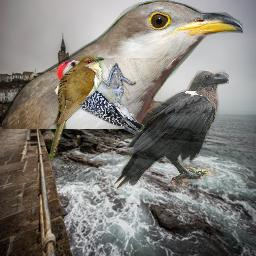Crow: (112, 70, 229, 189)
Cuckoo: (2, 0, 243, 129), (48, 55, 105, 160)
Woodpecker: (57, 58, 161, 143)
